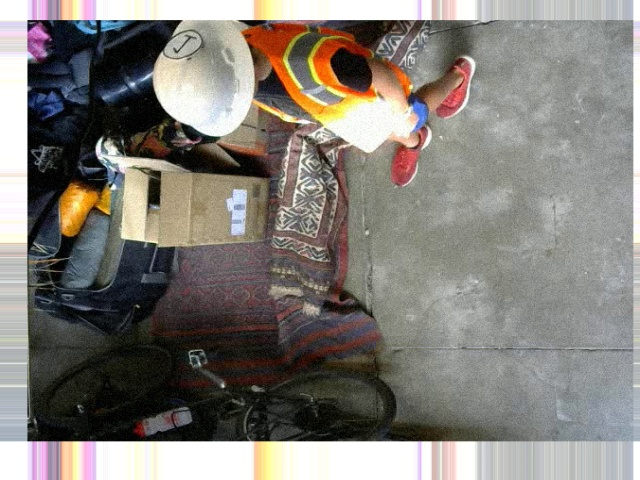one: (161, 28, 203, 60)
